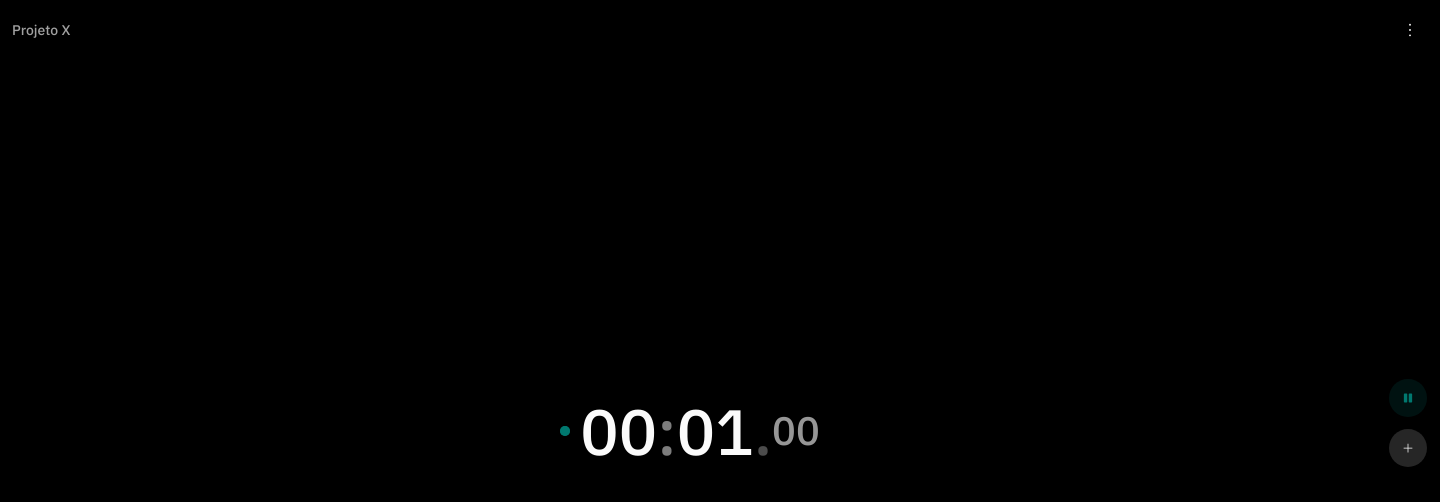
Scenario: PiPContent › opens the adjust screen, pauses, and commits the nudged time on Pronto
The width and height of the screenshot is (1440, 502).
Click the button titled "Mais opções" at (1410, 30), box [1392,12,1428,48]
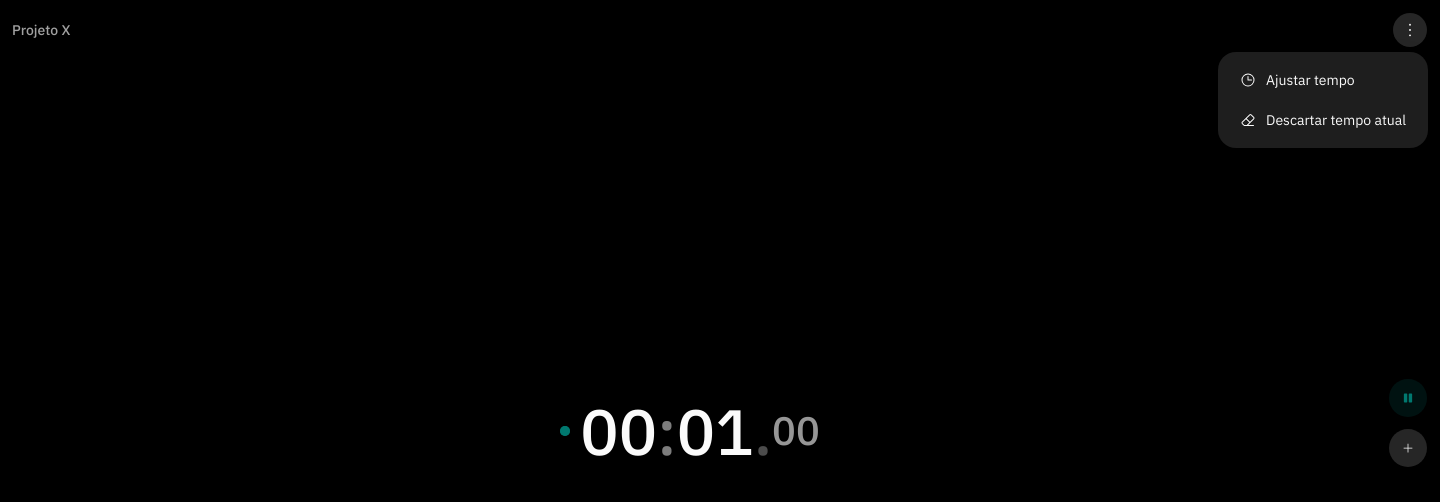
Click the menu item "Ajustar tempo" at (1297, 80), box [1240,71,1355,89]
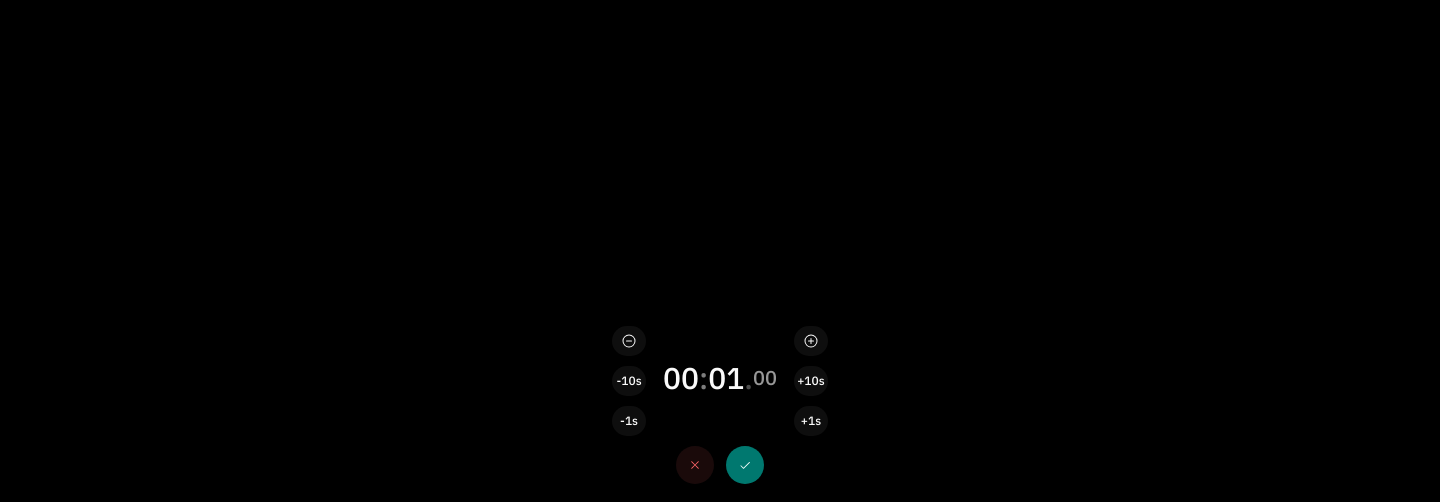
Nudges stay local until confirmed.
Click the button named "Aumentar 10s" at (811, 381), box [793,365,829,397]
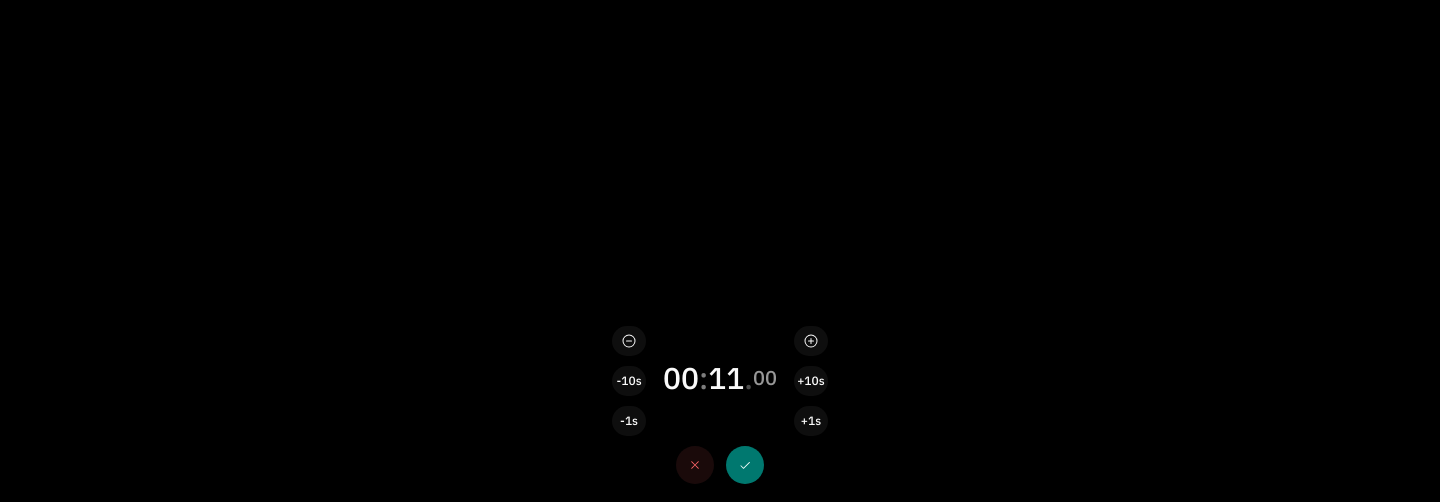
Click the button named "Pronto" at (745, 465), box [725,445,765,485]
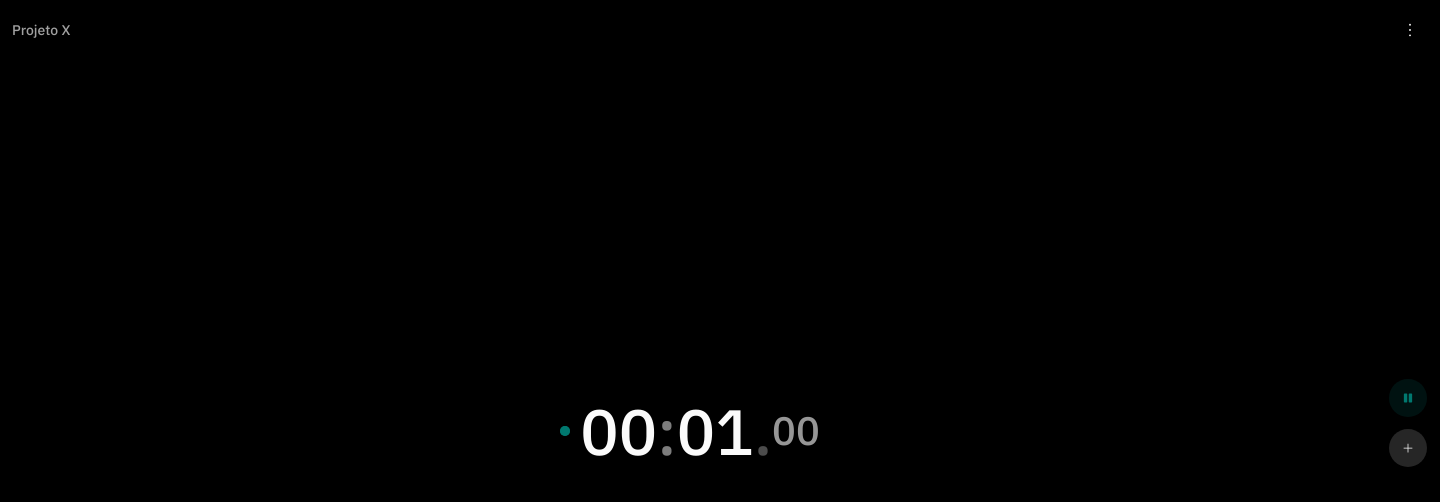
Expected: the heading "Projeto X" is shown, [12,21,70,39]
